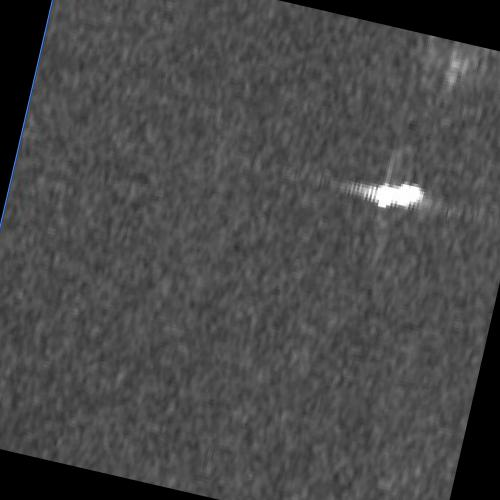ship: (369, 181, 425, 208)
